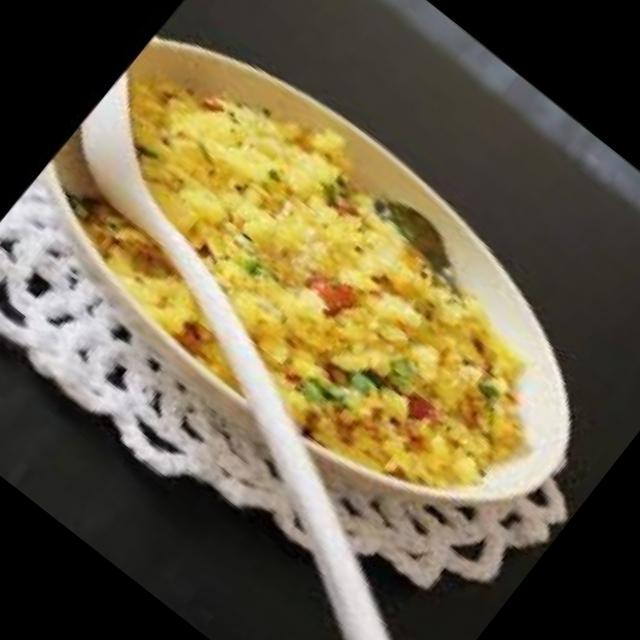poha: (2, 0, 614, 561)
